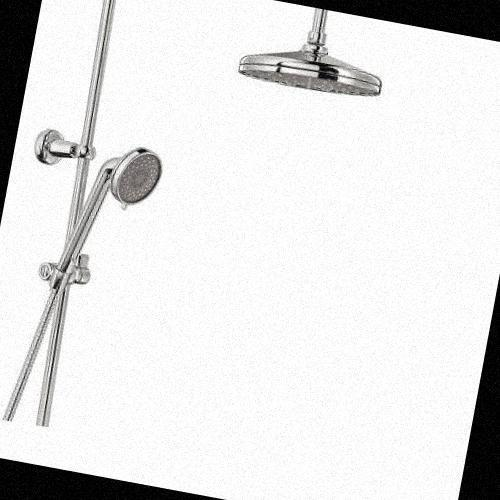Ducha: (0, 0, 422, 489)
